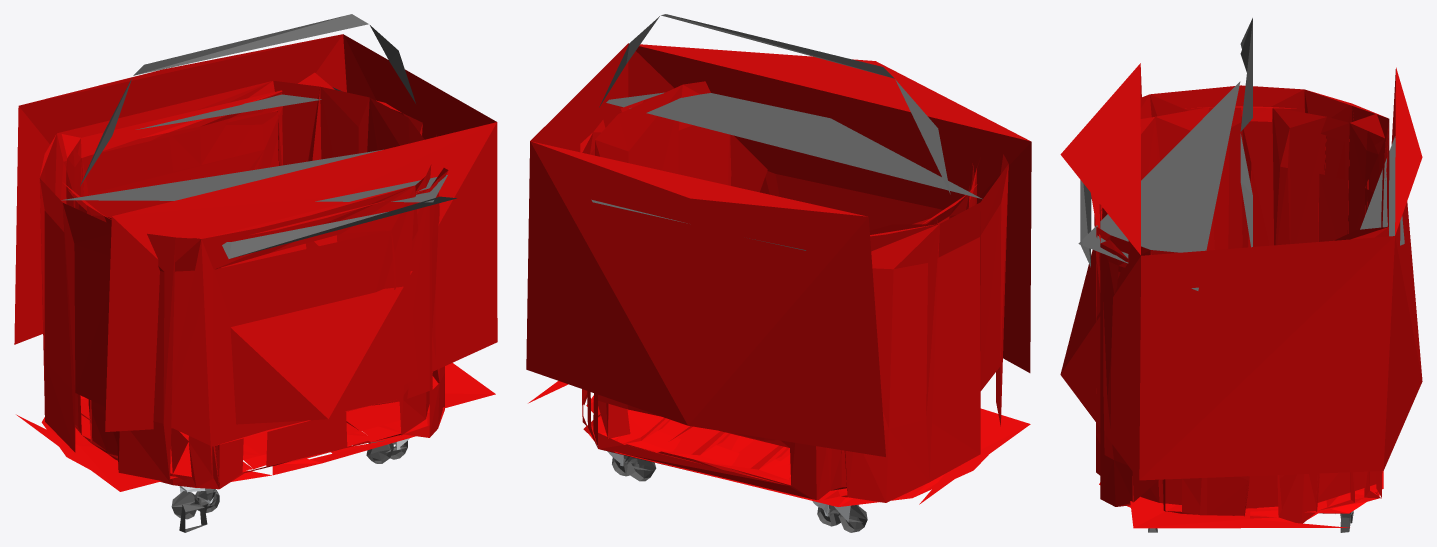
File: imp-shopping-basket.glb
3 renders of one model, left to right at view 1: azimuth 30°, elevation 25°; view 2: azimuth 150°, elevation 25°; view 3: azimuth 270°, elevation 25°, orthographic. The views are drawn at different scales.
Visible parts, largest first — view 1: Mesh1_FINAL_ORANGE1_0 (×3), Mesh1_M_0136_Charcoal_0 (×2), Mesh1_M_0020_Red_0 (×3), Mesh1_Color_008_0 (×2); view 2: Mesh1_FINAL_ORANGE1_0 (×3), Mesh1_M_0136_Charcoal_0 (×2), Mesh1_M_0020_Red_0 (×3), Mesh1_Color_008_0 (×2); view 3: Mesh1_FINAL_ORANGE1_0 (×3), Mesh1_M_0136_Charcoal_0 (×2), Mesh1_M_0020_Red_0 (×2).
Boxes of the visible parts, x1=… form: Mesh1_FINAL_ORANGE1_0 (×3): x1=14, y1=34, x2=497, y2=489; Mesh1_M_0136_Charcoal_0 (×2): x1=61, y1=14, x2=456, y2=258; Mesh1_M_0020_Red_0 (×3): x1=16, y1=363, x2=495, y2=491; Mesh1_Color_008_0 (×2): x1=171, y1=440, x2=407, y2=519; Mesh1_FINAL_ORANGE1_0 (×3): x1=526, y1=43, x2=1031, y2=502; Mesh1_M_0136_Charcoal_0 (×2): x1=591, y1=14, x2=982, y2=250; Mesh1_M_0020_Red_0 (×3): x1=528, y1=381, x2=1030, y2=506; Mesh1_Color_008_0 (×2): x1=612, y1=455, x2=867, y2=532; Mesh1_FINAL_ORANGE1_0 (×3): x1=1060, y1=63, x2=1422, y2=523; Mesh1_M_0136_Charcoal_0 (×2): x1=1078, y1=18, x2=1404, y2=290; Mesh1_M_0020_Red_0 (×2): x1=1127, y1=488, x2=1379, y2=528.
Bounding box in the file's own units: 0.45 × 0.45 × 0.3545.
